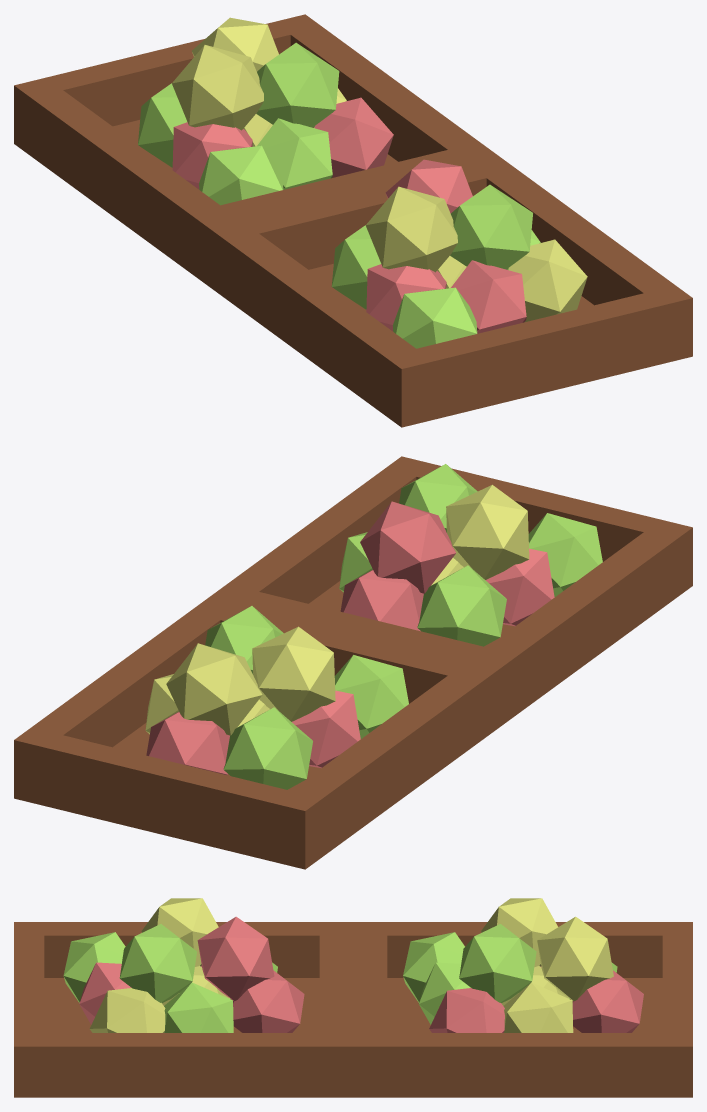
The model's file is food_01.fbx.
The picture shows the model from 3 angles, top to bottom: view 1: azimuth 30°, elevation 25°; view 2: azimuth 150°, elevation 25°; view 3: azimuth 270°, elevation 25°; orthographic projection. The views are drawn at different scales.
Parts seen in each view (by area): view 1: table_01_l.001; view 2: table_01_l.001; view 3: table_01_l.001.
Boxes of the visible parts, x1,y1,x2,y2 form: table_01_l.001: [14, 14, 692, 427]; table_01_l.001: [14, 456, 692, 869]; table_01_l.001: [14, 898, 692, 1097].
Bounding box in the file's own units: 305 × 138 × 704.
